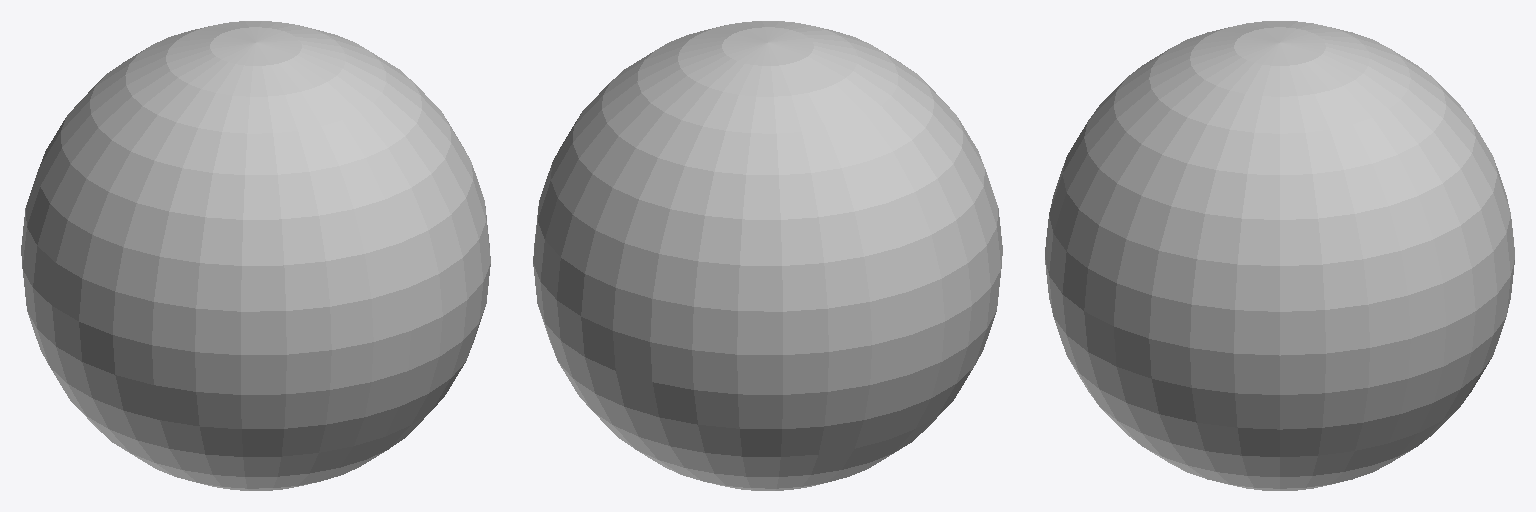
3 renders of one model, left to right at view 1: azimuth 30°, elevation 25°; view 2: azimuth 150°, elevation 25°; view 3: azimuth 270°, elevation 25°, orthographic.
Parts seen in each view (by area): view 1: 球体; view 2: 球体; view 3: 球体.
Boxes of the visible parts, <box> form: 球体: <box>21,21,490,490</box>; 球体: <box>533,21,1002,490</box>; 球体: <box>1045,21,1514,490</box>.
Size of the model in its own units: 2 by 2 by 2.